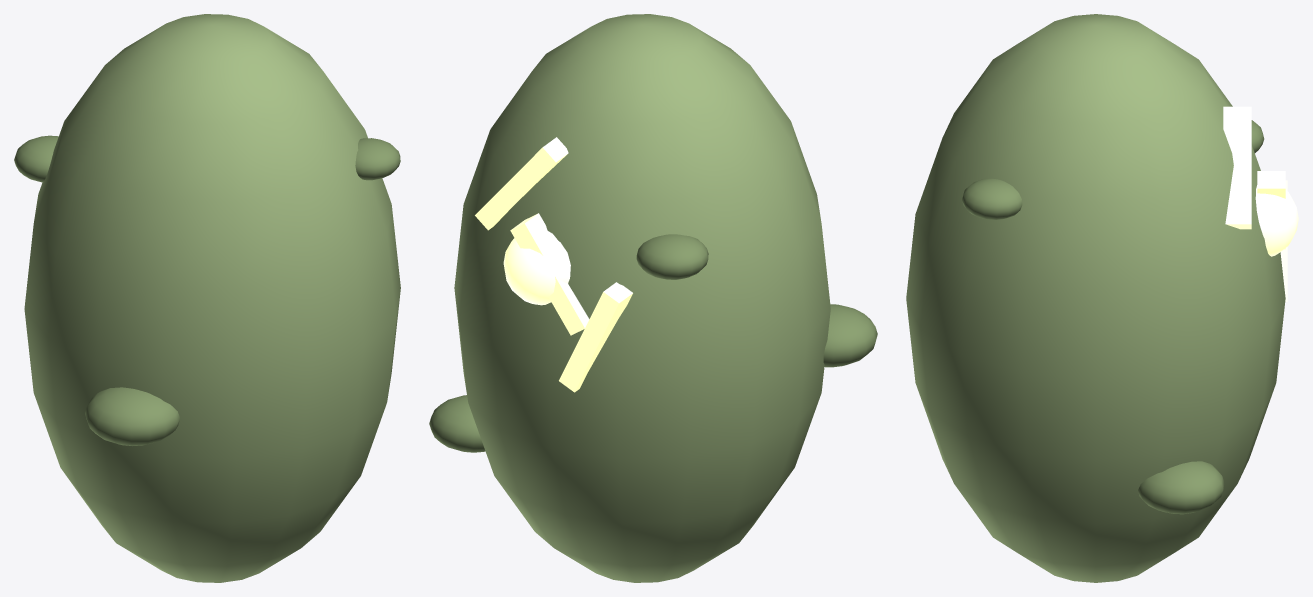
Rendered from ZombieEgg.fbx.
3 renders of one model, left to right at view 1: azimuth 30°, elevation 25°; view 2: azimuth 150°, elevation 25°; view 3: azimuth 270°, elevation 25°, orthographic.
Parts seen in each view (by area): view 1: ZombieEgg.Egg, ZombieEgg.Spot3, ZombieEgg.Spot4, ZombieEgg.Spot2; view 2: ZombieEgg.Egg, ZombieEgg.Eye, ZombieEgg.Crack3, ZombieEgg.Spot2, ZombieEgg.Spot3, ZombieEgg.Crack2, ZombieEgg.Crack1, ZombieEgg.Spot1; view 3: ZombieEgg.Egg, ZombieEgg.Spot1, ZombieEgg.Crack2, ZombieEgg.Eye, ZombieEgg.Spot4, ZombieEgg.Crack1.
Part boxes in pixels (left/top/right/bottom): ZombieEgg.Egg: left=24, top=14, right=400, bottom=582; ZombieEgg.Spot3: left=85, top=387, right=180, bottom=445; ZombieEgg.Spot4: left=355, top=138, right=400, bottom=180; ZombieEgg.Spot2: left=14, top=135, right=58, bottom=182; ZombieEgg.Egg: left=454, top=14, right=830, bottom=582; ZombieEgg.Eye: left=503, top=230, right=570, bottom=305; ZombieEgg.Crack3: left=559, top=282, right=632, bottom=392; ZombieEgg.Spot2: left=636, top=234, right=708, bottom=279; ZombieEgg.Spot3: left=823, top=304, right=877, bottom=367; ZombieEgg.Crack2: left=475, top=137, right=568, bottom=230; ZombieEgg.Crack1: left=510, top=213, right=589, bottom=335; ZombieEgg.Spot1: left=429, top=395, right=485, bottom=452; ZombieEgg.Egg: left=906, top=14, right=1285, bottom=582; ZombieEgg.Spot1: left=1138, top=461, right=1224, bottom=514; ZombieEgg.Crack2: left=1223, top=106, right=1251, bottom=229; ZombieEgg.Eye: left=1255, top=185, right=1298, bottom=256; ZombieEgg.Spot4: left=962, top=178, right=1022, bottom=219; ZombieEgg.Crack1: left=1257, top=171, right=1285, bottom=249.
Size of the model in its own units: 0.9651 by 1.49 by 0.9675.
